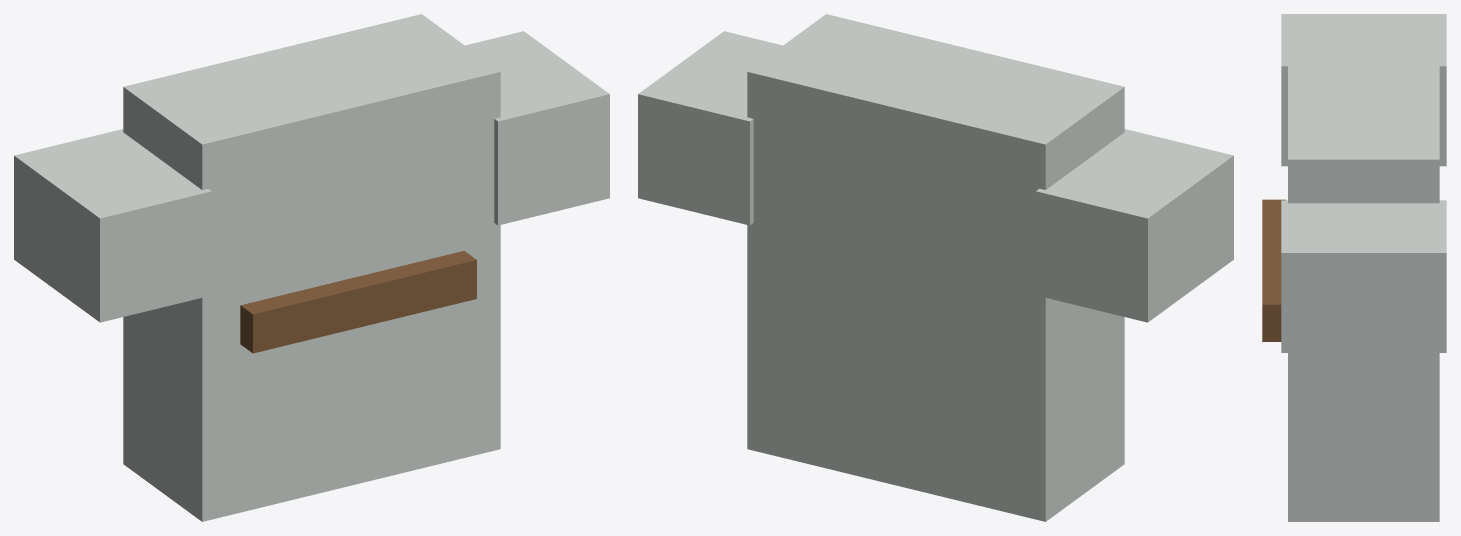
File: ironArmor.glb
3 views of the same model, side by side, from view 1: azimuth 30°, elevation 25°; view 2: azimuth 150°, elevation 25°; view 3: azimuth 270°, elevation 25° (orthographic). The views are drawn at different scales.
Visible parts, largest first — view 1: ArmorChest, ArmorLeftShoulder, ArmorRightShoulder, ArmorStrap; view 2: ArmorChest, ArmorLeftShoulder, ArmorRightShoulder; view 3: ArmorChest, ArmorRightShoulder, ArmorLeftShoulder, ArmorStrap.
Part boxes in pixels (left/top/right/bottom): ArmorChest: left=123, top=14, right=500, bottom=521; ArmorLeftShoulder: left=14, top=129, right=211, bottom=322; ArmorRightShoulder: left=465, top=31, right=609, bottom=225; ArmorStrap: left=240, top=251, right=476, bottom=353; ArmorChest: left=747, top=14, right=1124, bottom=521; ArmorLeftShoulder: left=1036, top=129, right=1233, bottom=322; ArmorRightShoulder: left=638, top=31, right=782, bottom=225; ArmorChest: left=1288, top=19, right=1439, bottom=521; ArmorRightShoulder: left=1281, top=200, right=1446, bottom=352; ArmorLeftShoulder: left=1281, top=14, right=1446, bottom=166; ArmorStrap: left=1262, top=199, right=1285, bottom=341.
Size of the model in its own units: 0.82 by 0.58 by 0.2675.
